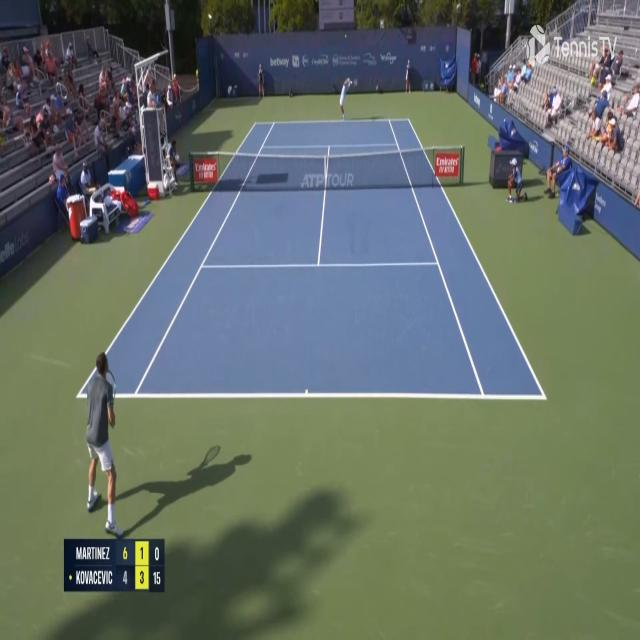tennis-player: (81, 345, 134, 542), (338, 75, 356, 121)
